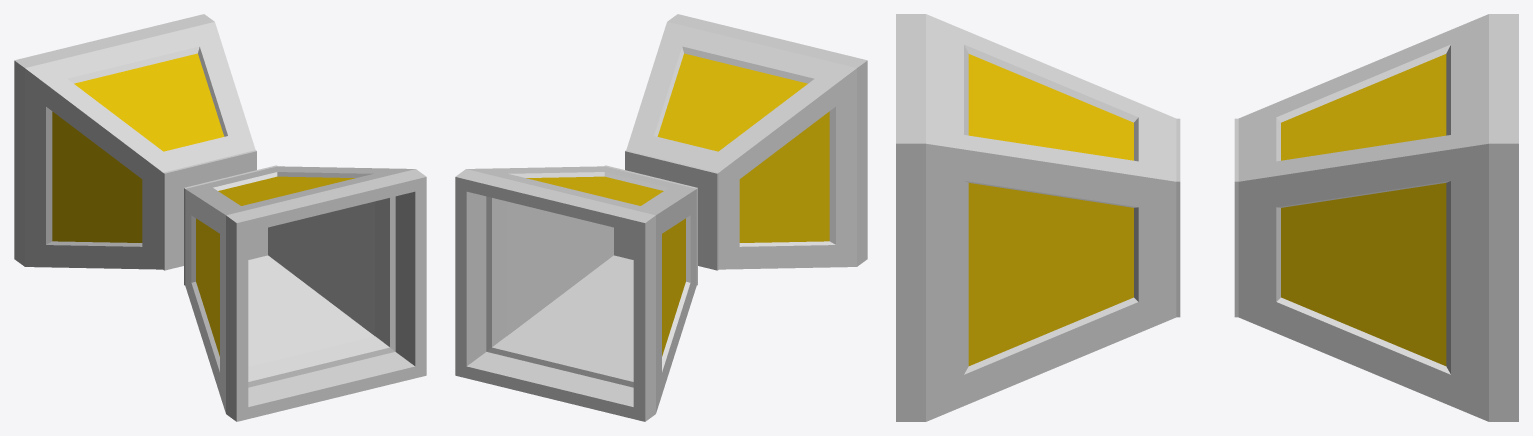
Rendered from goal.fbx.
3 renders of one model, left to right at view 1: azimuth 30°, elevation 25°; view 2: azimuth 150°, elevation 25°; view 3: azimuth 270°, elevation 25°, orthographic. The views are drawn at different scales.
Visible parts, largest first — view 1: Cube.001, Cube; view 2: Cube, Cube.001; view 3: Cube, Cube.001.
Part boxes in pixels (<box>): Cube.001: <box>184,165,426,421</box>; Cube: <box>14,14,256,270</box>; Cube: <box>455,165,697,421</box>; Cube.001: <box>625,14,867,270</box>; Cube: <box>1234,14,1518,421</box>; Cube.001: <box>896,14,1180,421</box>.
Bounding box in the file's own units: 200 × 200 × 406.
